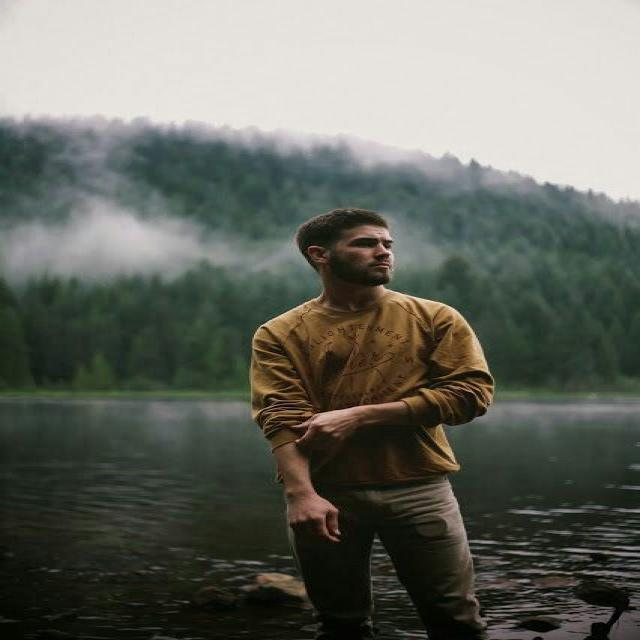adult: (246, 204, 506, 640)
